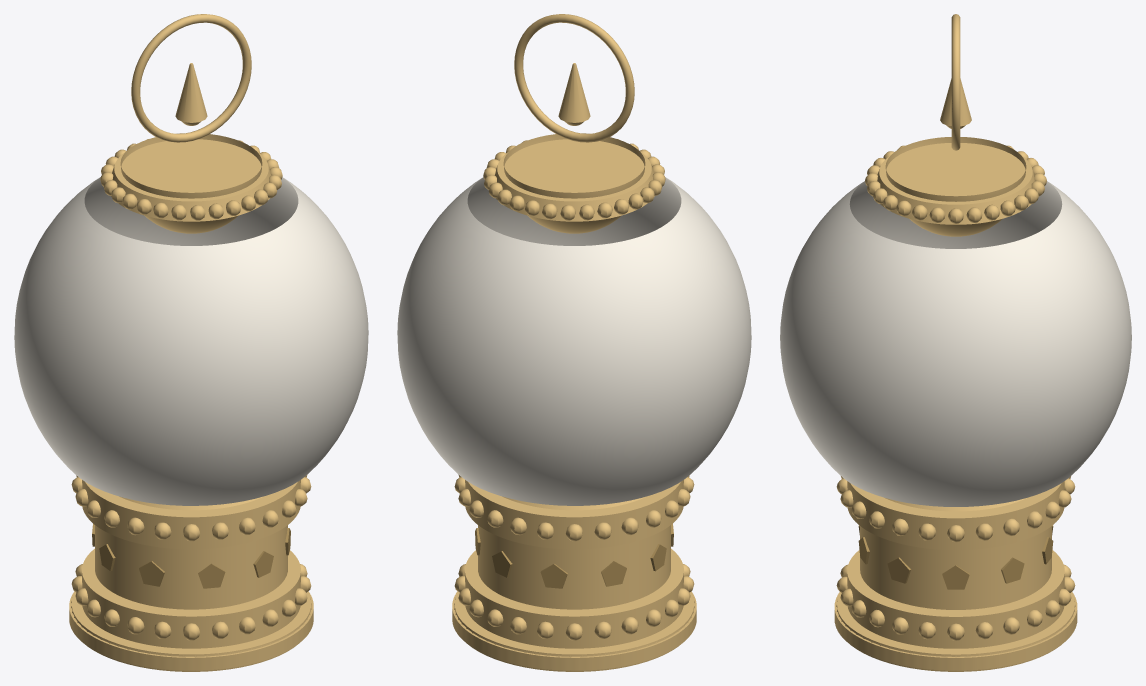
File: bar_lantern.glb
3 views of the same model, side by side, from view 1: azimuth 30°, elevation 25°; view 2: azimuth 150°, elevation 25°; view 3: azimuth 270°, elevation 25° (orthographic).
Visible parts, largest first — view 1: Glass_Body, Base_Band, Cap_Collar, Base_RopeLow, Base_RopeHi, Base_Plate, Cap_Handle, Cap_Dome, Cap_Spike, Base_Rim; view 2: Glass_Body, Base_Band, Cap_Collar, Base_RopeLow, Base_RopeHi, Base_Plate, Cap_Handle, Cap_Dome, Cap_Spike, Base_Rim; view 3: Glass_Body, Base_Band, Cap_Collar, Base_RopeLow, Base_RopeHi, Base_Plate, Cap_Dome, Cap_Handle, Cap_Spike, Base_Rim.
Boxes of the visible parts, x1=… form: Glass_Body: x1=14, y1=177, x2=368, y2=505; Base_Band: x1=95, y1=525, x2=287, y2=609; Cap_Collar: x1=111, y1=139, x2=271, y2=221; Base_RopeLow: x1=82, y1=548, x2=300, y2=648; Base_RopeHi: x1=82, y1=480, x2=300, y2=549; Base_Plate: x1=69, y1=591, x2=313, y2=671; Cap_Handle: x1=131, y1=14, x2=251, y2=142; Cap_Dome: x1=120, y1=133, x2=262, y2=233; Cap_Spike: x1=175, y1=63, x2=207, y2=122; Base_Rim: x1=119, y1=496, x2=263, y2=510; Glass_Body: x1=397, y1=177, x2=751, y2=505; Base_Band: x1=478, y1=525, x2=670, y2=609; Cap_Collar: x1=494, y1=139, x2=654, y2=221; Base_RopeLow: x1=465, y1=548, x2=683, y2=648; Base_RopeHi: x1=465, y1=480, x2=683, y2=549; Base_Plate: x1=452, y1=591, x2=696, y2=671; Cap_Handle: x1=514, y1=14, x2=634, y2=142; Cap_Dome: x1=503, y1=133, x2=645, y2=233; Cap_Spike: x1=558, y1=63, x2=590, y2=122; Base_Rim: x1=502, y1=496, x2=646, y2=510; Glass_Body: x1=780, y1=181, x2=1131, y2=506; Base_Band: x1=860, y1=526, x2=1051, y2=609; Cap_Collar: x1=877, y1=143, x2=1034, y2=224; Base_RopeLow: x1=847, y1=550, x2=1064, y2=648; Base_RopeHi: x1=847, y1=481, x2=1064, y2=550; Base_Plate: x1=834, y1=592, x2=1077, y2=671; Cap_Dome: x1=885, y1=137, x2=1026, y2=236; Cap_Handle: x1=951, y1=14, x2=960, y2=150; Cap_Spike: x1=940, y1=78, x2=971, y2=126; Base_Rim: x1=885, y1=498, x2=1026, y2=511.
Bounding box in the file's own units: 0.11 × 0.2074 × 0.11.
